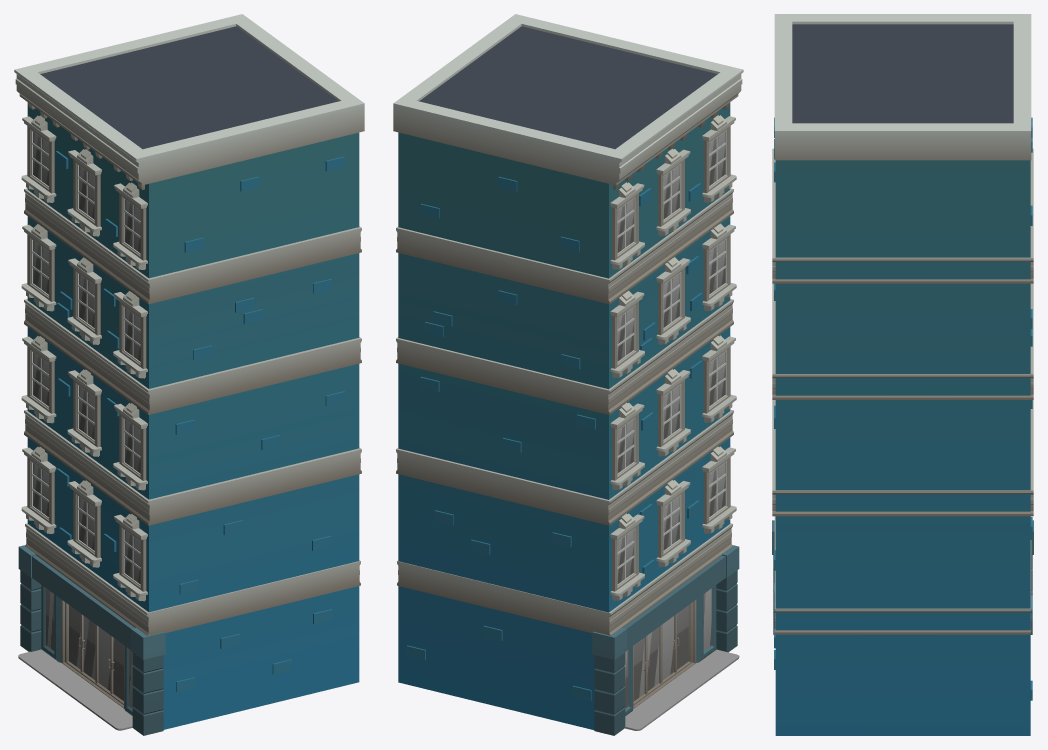
The model's file is Building_21_1_J.glb.
3 views of the same model, side by side, from view 1: azimuth 30°, elevation 25°; view 2: azimuth 150°, elevation 25°; view 3: azimuth 270°, elevation 25° (orthographic). The views are drawn at different scales.
Visible parts, largest first — view 1: Building_21_1_J; view 2: Building_21_1_J; view 3: Building_21_1_J.
Boxes of the visible parts, bbox=[...] form: Building_21_1_J: bbox=[14, 14, 364, 735]; Building_21_1_J: bbox=[393, 14, 743, 735]; Building_21_1_J: bbox=[772, 14, 1033, 735].
Size of the model in its own units: 7.79 by 18.25 by 7.13.
Materials: 3 (3 with a texture image).
